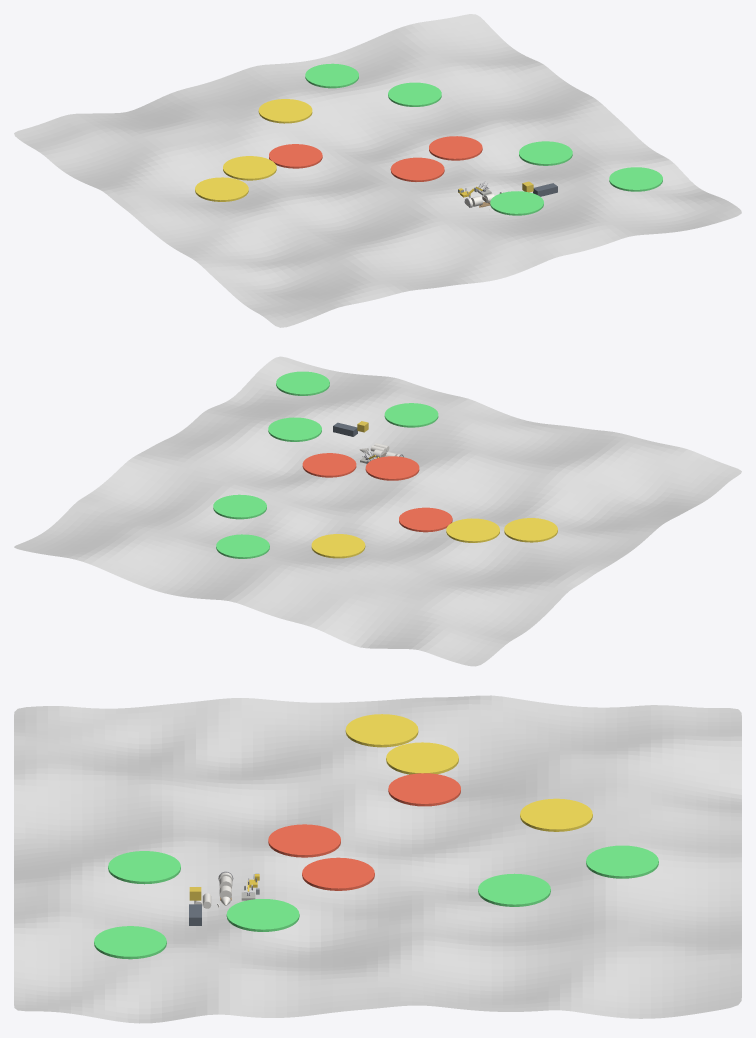
Rendered from Stage1-WindFarm-CEE.fbx.
3 views of the same model, one above another, from view 1: azimuth 30°, elevation 25°; view 2: azimuth 150°, elevation 25°; view 3: azimuth 270°, elevation 25° (orthographic). The views are drawn at different scales.
Parts seen in each view (by area): view 1: WF_Terrain, WF_BaseDisc_red_10, WF_BaseDisc_green_02, WF_BaseDisc_green_06, WF_BaseDisc_green_07, WF_BaseDisc_green_08, WF_BaseDisc_yellow_05, WF_BaseDisc_green_01, WF_BaseDisc_yellow_04, WF_BaseDisc_yellow_09, WF_BaseDisc_red_RED, WF_BaseDisc_red_11; view 2: WF_Terrain, WF_BaseDisc_green_02, WF_BaseDisc_red_RED, WF_BaseDisc_red_10, WF_BaseDisc_green_06, WF_BaseDisc_green_07, WF_BaseDisc_yellow_04, WF_BaseDisc_green_01, WF_BaseDisc_yellow_05, WF_BaseDisc_green_08, WF_BaseDisc_yellow_09, WF_BaseDisc_red_11; view 3: WF_Terrain, WF_BaseDisc_red_11, WF_BaseDisc_green_06, WF_BaseDisc_red_RED, WF_BaseDisc_yellow_04, WF_BaseDisc_yellow_05, WF_BaseDisc_green_07, WF_BaseDisc_green_01, WF_BaseDisc_green_08, WF_BaseDisc_red_10, WF_BaseDisc_green_02, WF_BaseDisc_yellow_09.
Boxes of the visible parts, bbox=[...] form: WF_Terrain: bbox=[14, 14, 741, 327]; WF_BaseDisc_red_10: bbox=[429, 136, 482, 160]; WF_BaseDisc_green_02: bbox=[490, 191, 543, 215]; WF_BaseDisc_green_06: bbox=[305, 63, 358, 88]; WF_BaseDisc_green_07: bbox=[609, 167, 662, 191]; WF_BaseDisc_green_08: bbox=[519, 141, 572, 165]; WF_BaseDisc_yellow_05: bbox=[258, 99, 312, 123]; WF_BaseDisc_green_01: bbox=[388, 82, 441, 106]; WF_BaseDisc_yellow_04: bbox=[195, 177, 248, 201]; WF_BaseDisc_yellow_09: bbox=[223, 156, 276, 180]; WF_BaseDisc_red_RED: bbox=[390, 157, 444, 181]; WF_BaseDisc_red_11: bbox=[269, 144, 322, 168]; WF_Terrain: bbox=[14, 356, 741, 666]; WF_BaseDisc_green_02: bbox=[384, 403, 438, 427]; WF_BaseDisc_red_RED: bbox=[365, 456, 419, 480]; WF_BaseDisc_red_10: bbox=[302, 453, 356, 477]; WF_BaseDisc_green_06: bbox=[216, 534, 269, 558]; WF_BaseDisc_green_07: bbox=[276, 371, 329, 395]; WF_BaseDisc_yellow_04: bbox=[504, 518, 557, 542]; WF_BaseDisc_green_01: bbox=[213, 494, 266, 519]; WF_BaseDisc_yellow_05: bbox=[311, 534, 365, 558]; WF_BaseDisc_green_08: bbox=[268, 417, 321, 441]; WF_BaseDisc_yellow_09: bbox=[446, 518, 499, 542]; WF_BaseDisc_red_11: bbox=[399, 507, 452, 532]; WF_Terrain: bbox=[14, 695, 741, 1023]; WF_BaseDisc_red_11: bbox=[388, 773, 460, 806]; WF_BaseDisc_green_06: bbox=[586, 845, 658, 878]; WF_BaseDisc_red_RED: bbox=[268, 824, 340, 857]; WF_BaseDisc_yellow_04: bbox=[345, 714, 418, 747]; WF_BaseDisc_yellow_05: bbox=[520, 798, 592, 831]; WF_BaseDisc_green_07: bbox=[94, 926, 166, 959]; WF_BaseDisc_green_01: bbox=[478, 873, 550, 906]; WF_BaseDisc_green_08: bbox=[226, 899, 299, 931]; WF_BaseDisc_red_10: bbox=[302, 857, 374, 890]; WF_BaseDisc_green_02: bbox=[108, 851, 180, 884]; WF_BaseDisc_yellow_09: bbox=[386, 742, 458, 774].
Bounding box in the file's own units: 8000 × 490 × 8000.
